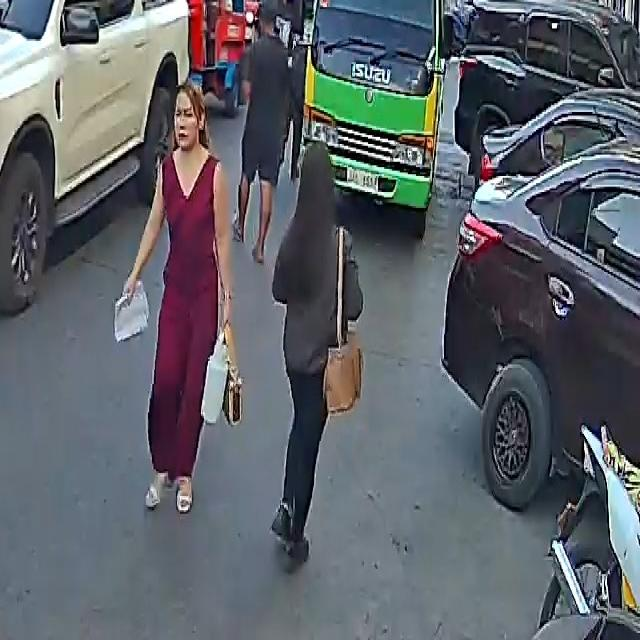car: (443, 64, 640, 526), (0, 0, 224, 313), (446, 0, 640, 204)
